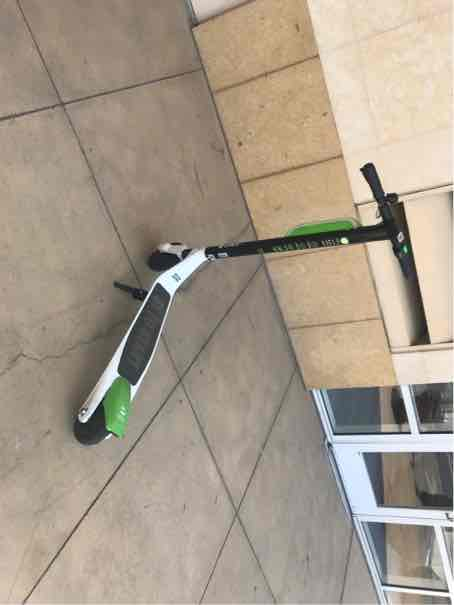scooter: (67, 156, 431, 453)
